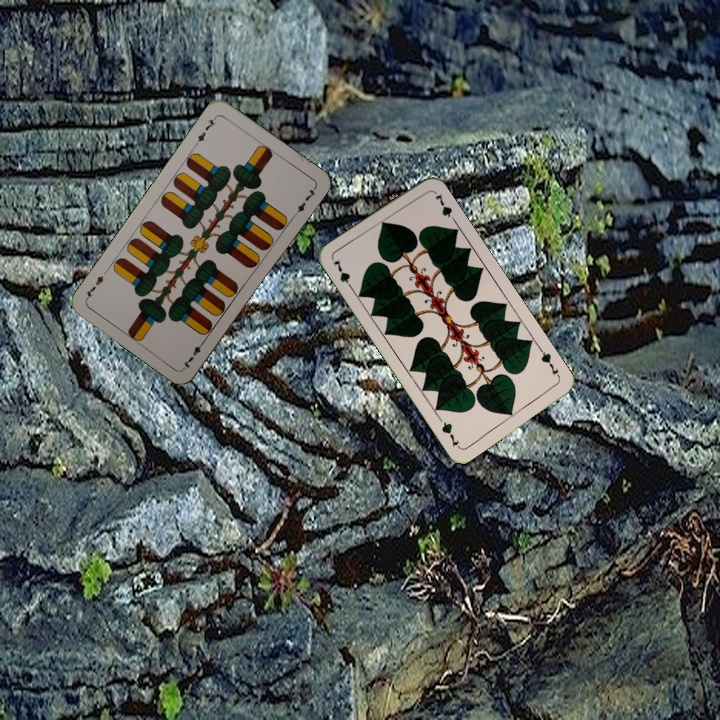E7: (179, 335, 208, 371), (191, 112, 219, 148)
G7: (329, 255, 356, 293), (536, 345, 563, 381)
